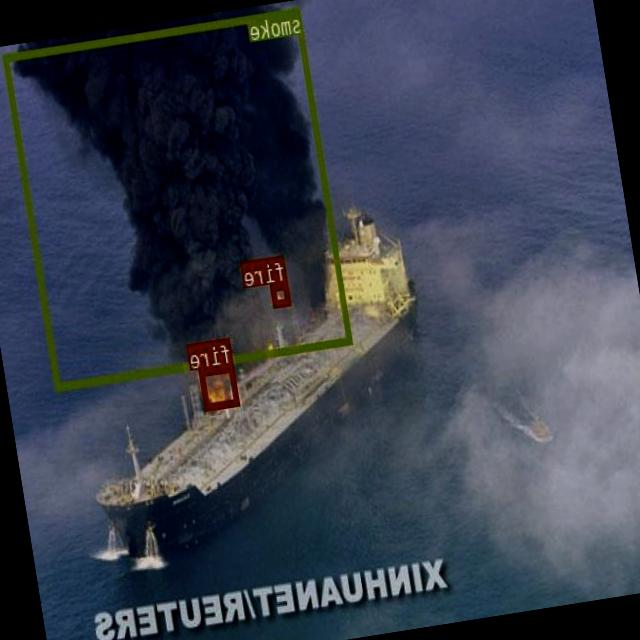fire: (200, 363, 240, 410), (271, 280, 292, 306)
smoke: (4, 7, 353, 390)
